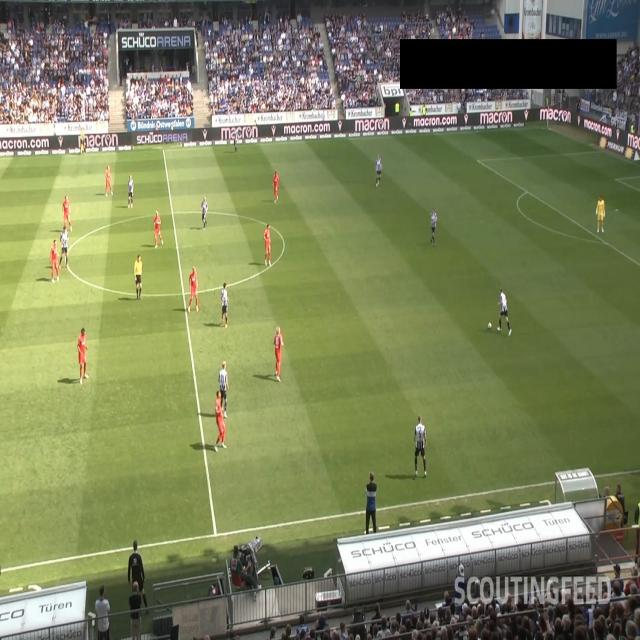ball: (488, 322, 492, 329)
